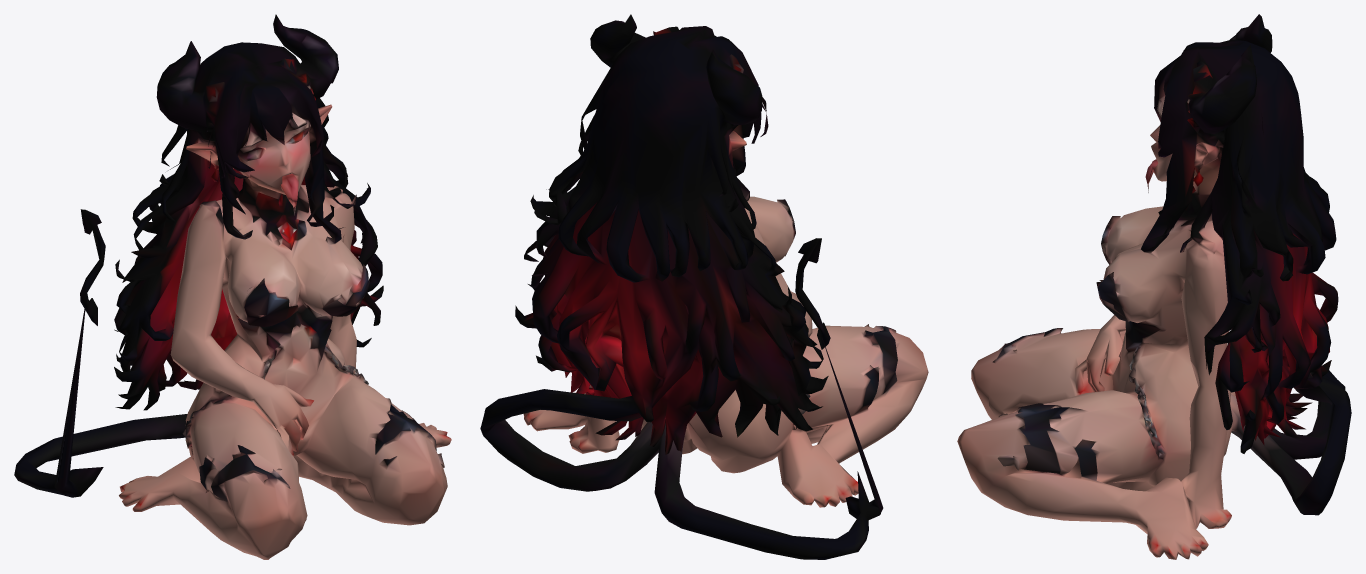
3 renders of one model, left to right at view 1: azimuth 30°, elevation 25°; view 2: azimuth 150°, elevation 25°; view 3: azimuth 270°, elevation 25°, orthographic. The views are drawn at different scales.
Parts seen in each view (by area): view 1: model; view 2: model; view 3: model.
Boxes of the visible parts, x1,y1,x2,y2 form: model: (14, 14, 451, 559); model: (480, 14, 928, 559); model: (957, 14, 1351, 559).
Size of the model in its own units: 1.71 by 1.9 by 1.51.
